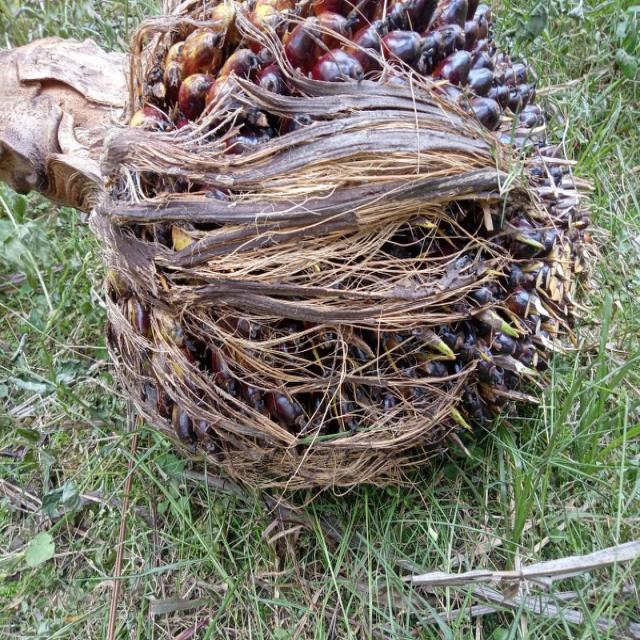fraksi 00: (112, 7, 579, 496)
